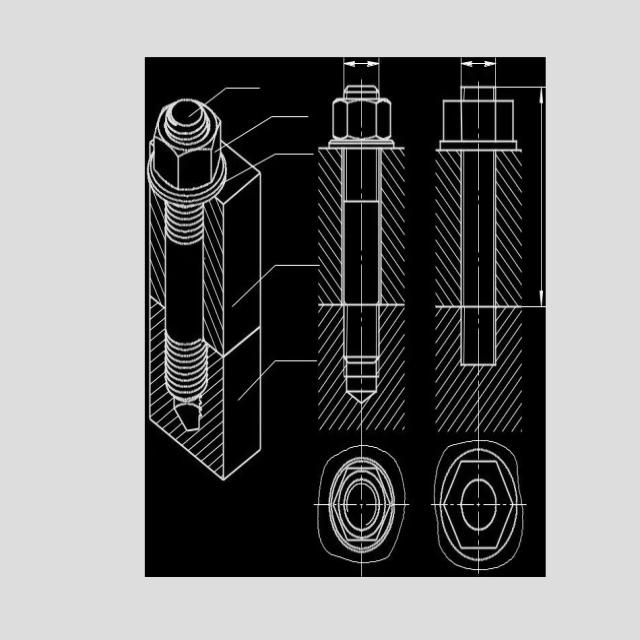marking_line: (539, 87, 544, 305), (345, 60, 378, 69), (463, 61, 494, 69)
